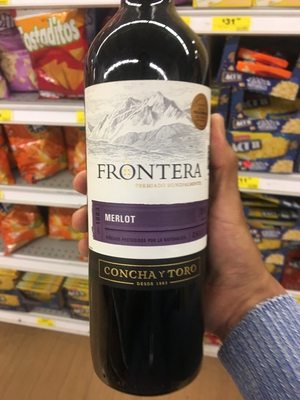frontera merlot: (73, 1, 237, 390)
